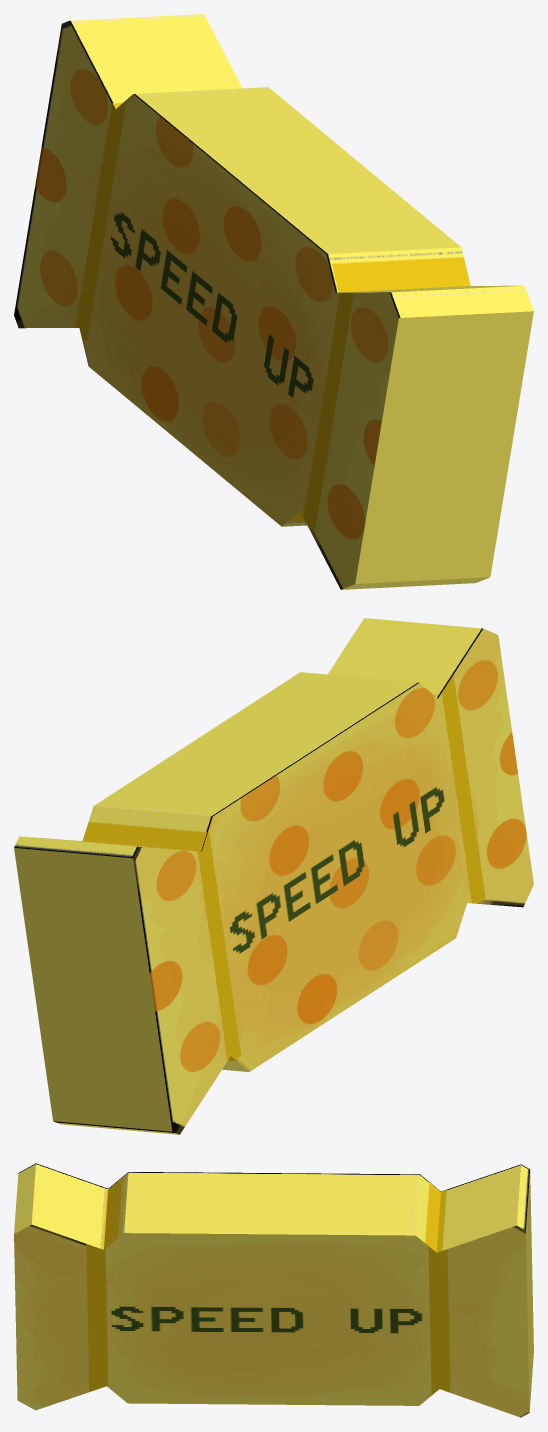
File: YELLOW SWEET.fbx
3 renders of one model, top to bottom at view 1: azimuth 30°, elevation 25°; view 2: azimuth 150°, elevation 25°; view 3: azimuth 270°, elevation 25°, orthographic. The views are drawn at different scales.
Visible parts, largest first — view 1: SWEETS:pCube1; view 2: SWEETS:pCube1; view 3: SWEETS:pCube1.
Part boxes in pixels (<box>): SWEETS:pCube1: <box>14,14,533,589</box>; SWEETS:pCube1: <box>14,618,533,1134</box>; SWEETS:pCube1: <box>14,1163,533,1417</box>.
Size of the model in its own units: 0.2883 by 0.4353 by 0.909.
Materials: 1 (1 with a texture image).
